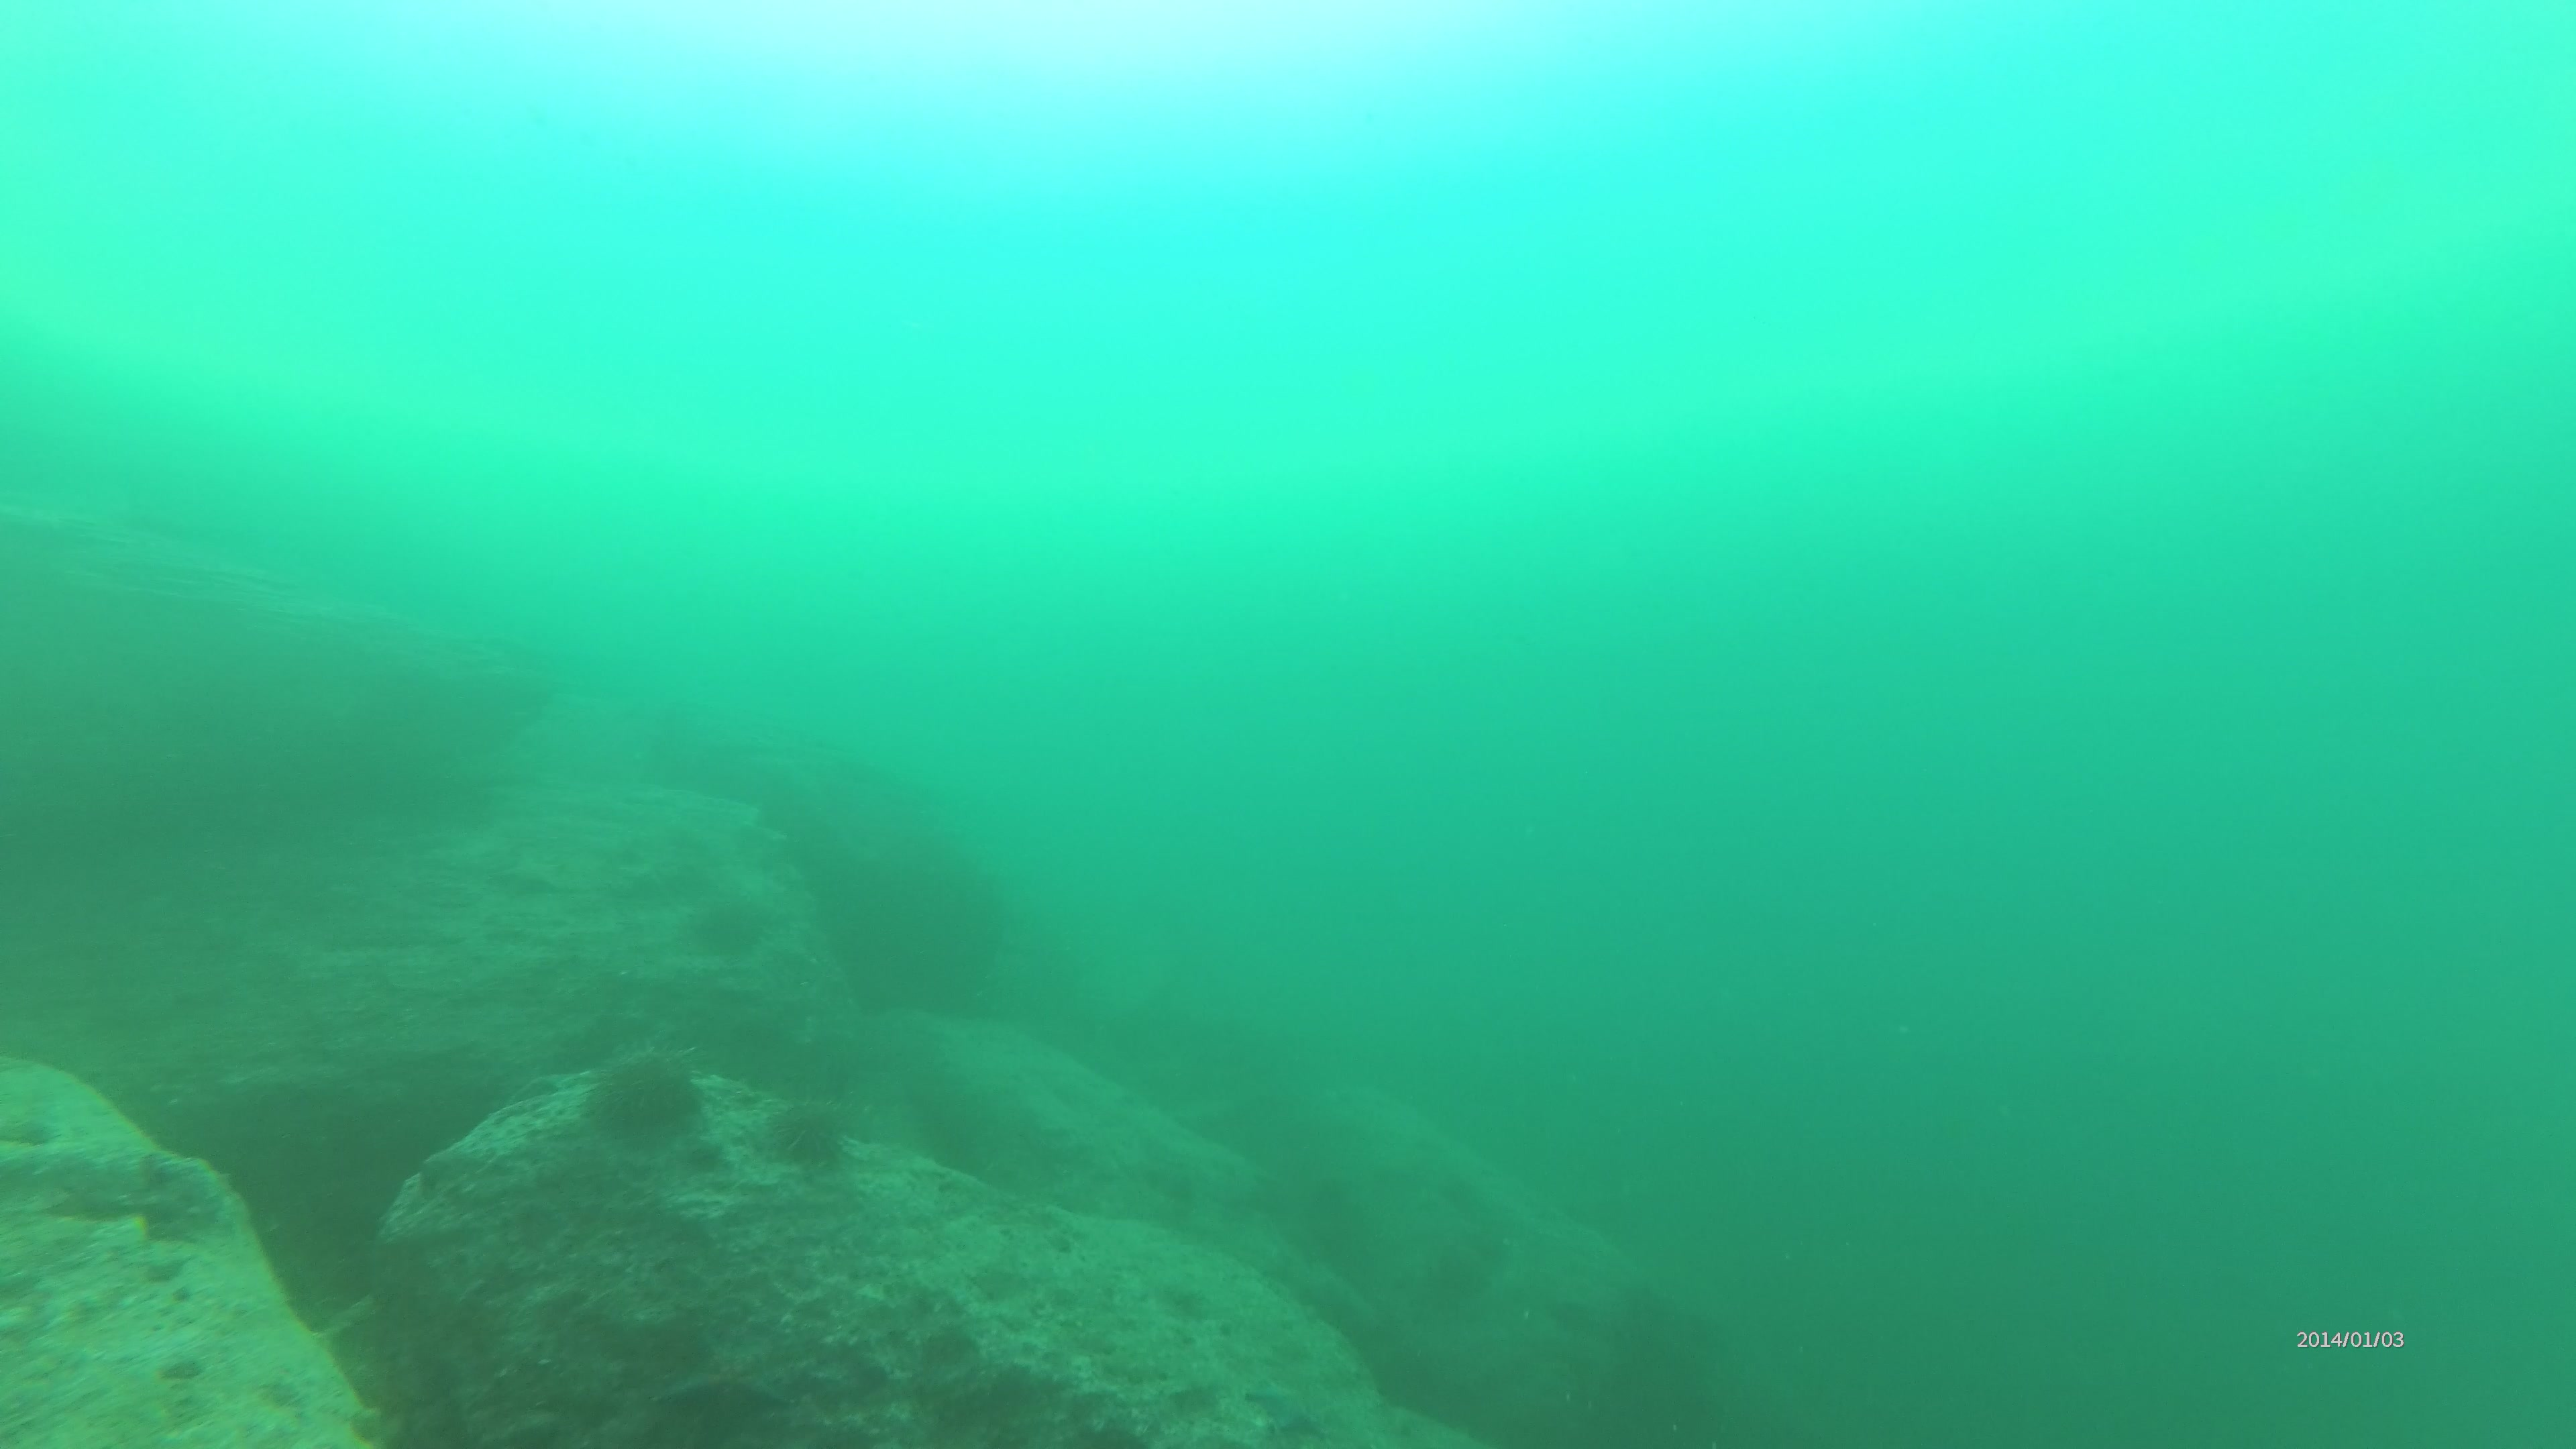echinus: (579, 1040, 711, 1132), (771, 1088, 858, 1166)
